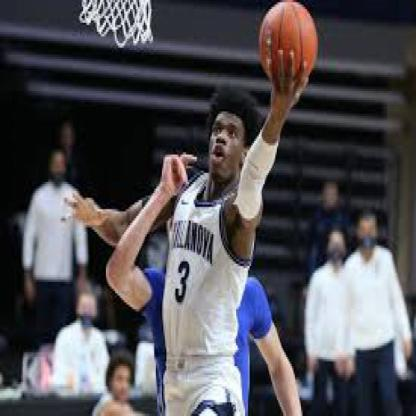basketball: (259, 2, 318, 91)
